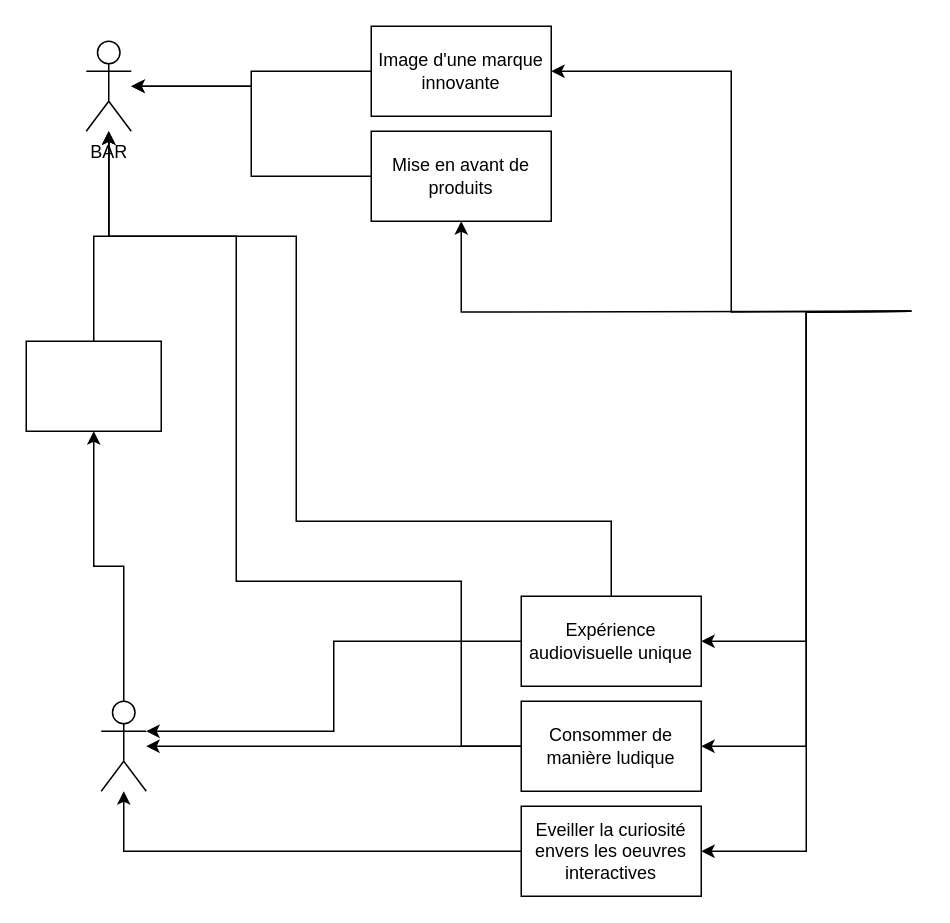
Some shapes in this 950 by 923 pixel diagram are drawn without their labels. Here are the shapes that lost their labels. From the top down, the box of each, then its label:
(25, 340, 161, 431): Publicité via les réseaux sociaux
(100, 700, 146, 791): UTILISATEUR
